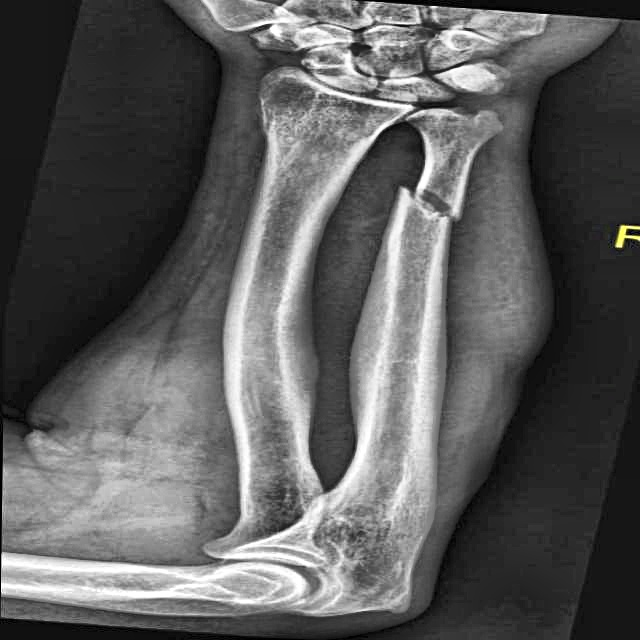Oblique Displaced: (354, 164, 506, 243)
